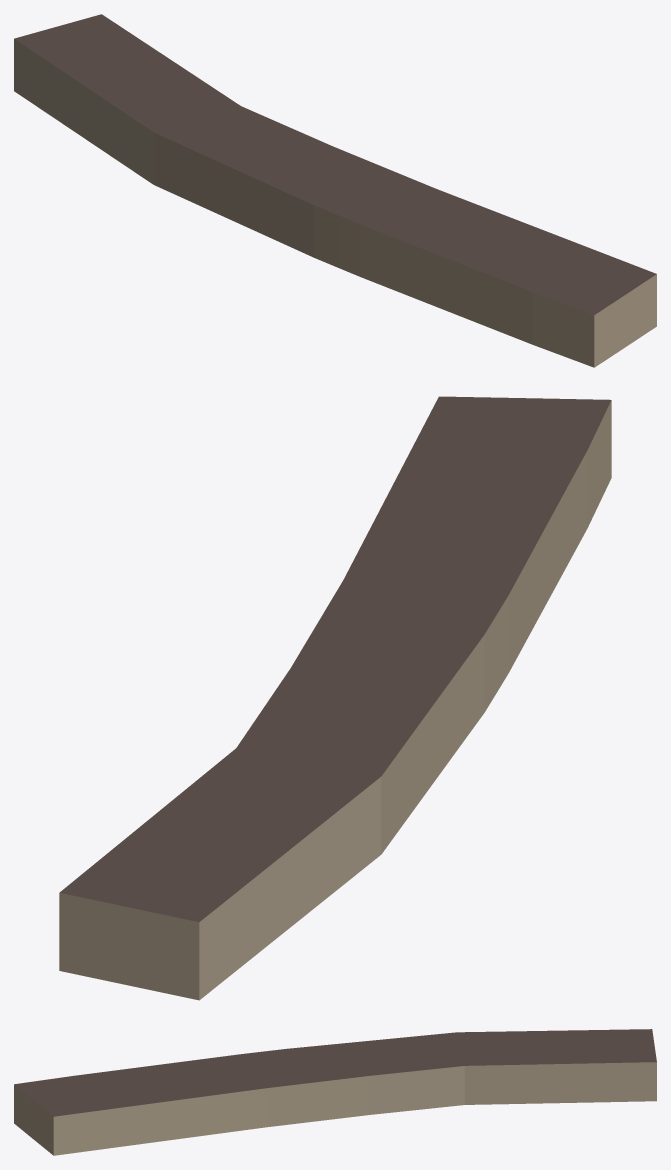
The picture shows the model from 3 angles, top to bottom: view 1: azimuth 30°, elevation 25°; view 2: azimuth 150°, elevation 25°; view 3: azimuth 270°, elevation 25°; orthographic projection. The views are drawn at different scales.
Parts seen in each view (by area): view 1: HP-w553893884; view 2: HP-w553893884; view 3: HP-w553893884.
Part boxes in pixels (box(x1,y1,x2,y2)): HP-w553893884: box(14, 14, 656, 367); HP-w553893884: box(59, 396, 611, 1000); HP-w553893884: box(14, 1029, 656, 1155).
Bounding box in the file's own units: 28.82 × 6 × 89.4.
